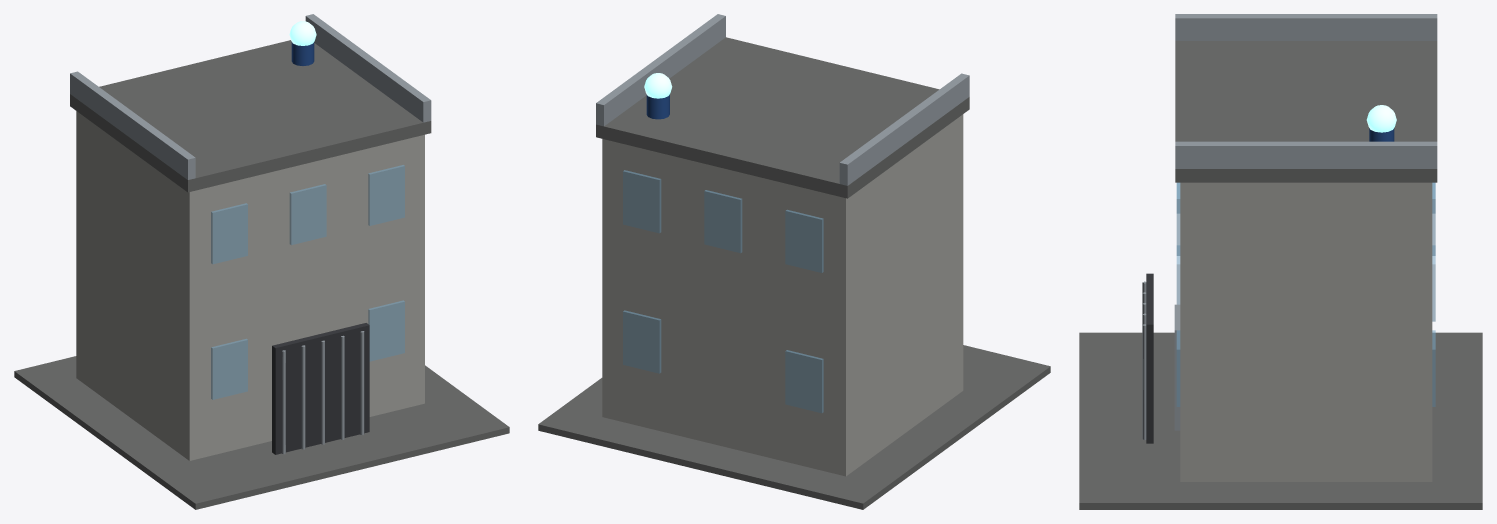
Rendered from bld_special_police_a06.glb.
The picture shows the model from 3 angles, left to right: view 1: azimuth 30°, elevation 25°; view 2: azimuth 150°, elevation 25°; view 3: azimuth 270°, elevation 25°; orthographic projection. The views are drawn at different scales.
Parts seen in each view (by area): view 1: body; view 2: body; view 3: body.
Part boxes in pixels (x1,y1,x2,y2): body: (14,14,509,509); body: (538,14,1050,509); body: (1079,14,1482,509).
Size of what is drawn, in the model's own units: 8 by 8 by 8.
